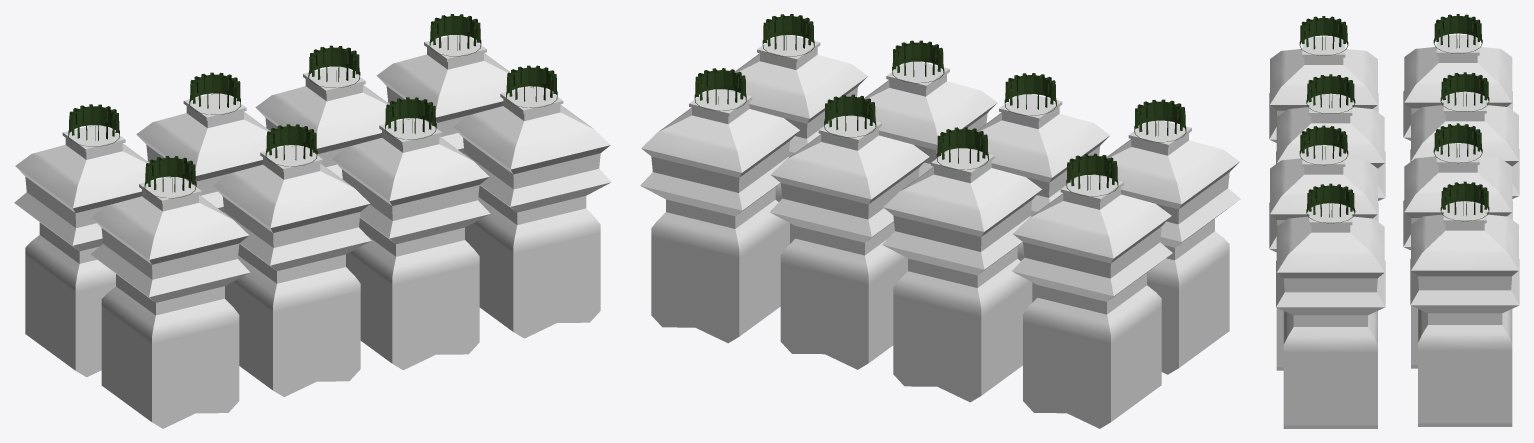
The model's file is Prikka_1l.fbx.
3 views of the same model, side by side, from view 1: azimuth 30°, elevation 25°; view 2: azimuth 150°, elevation 25°; view 3: azimuth 270°, elevation 25° (orthographic). The views are drawn at different scales.
Parts seen in each view (by area): view 1: Cube.002; view 2: Cube.002; view 3: Cube.002.
Boxes of the visible parts, left/top/right/bottom form: Cube.002: left=14, top=14, right=611, bottom=428; Cube.002: left=640, top=14, right=1240, bottom=428; Cube.002: left=1269, top=14, right=1519, bottom=428.
Size of the model in its own units: 1078 by 520 by 532.
